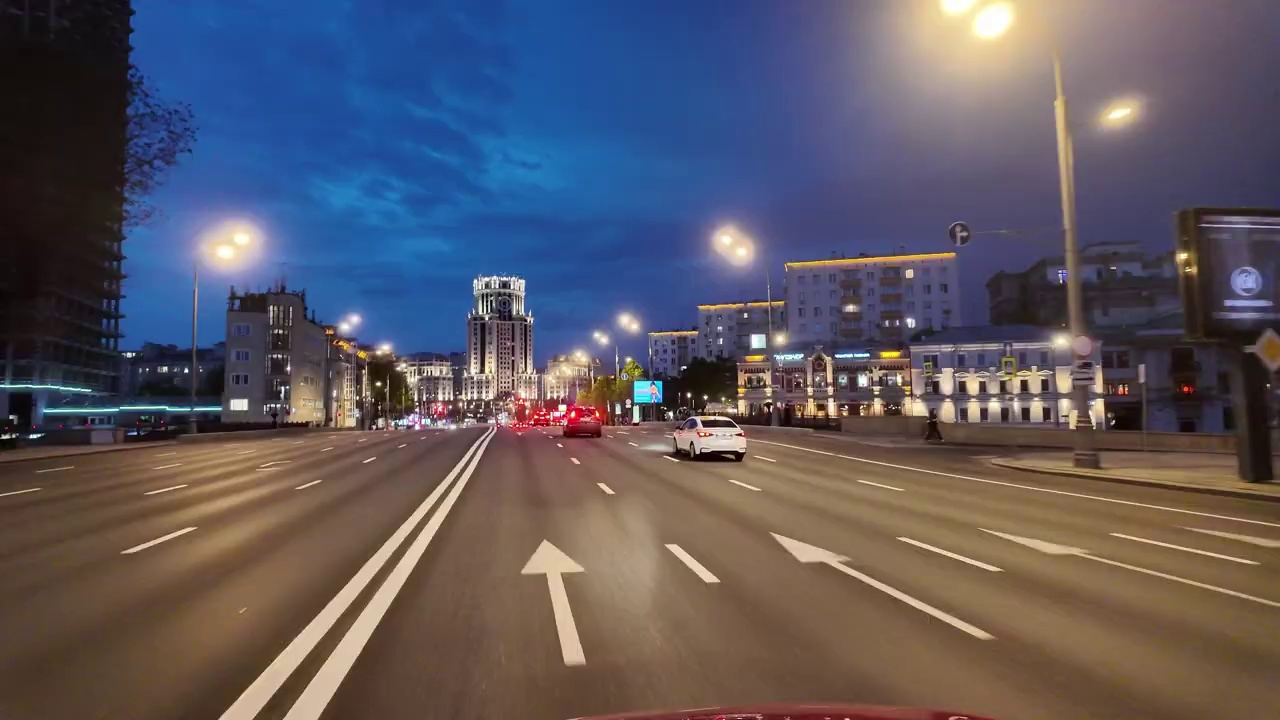acesa: (927, 0, 1024, 47), (961, 4, 1022, 45), (208, 227, 255, 266), (1098, 97, 1140, 131), (715, 226, 754, 262), (620, 312, 643, 333)
